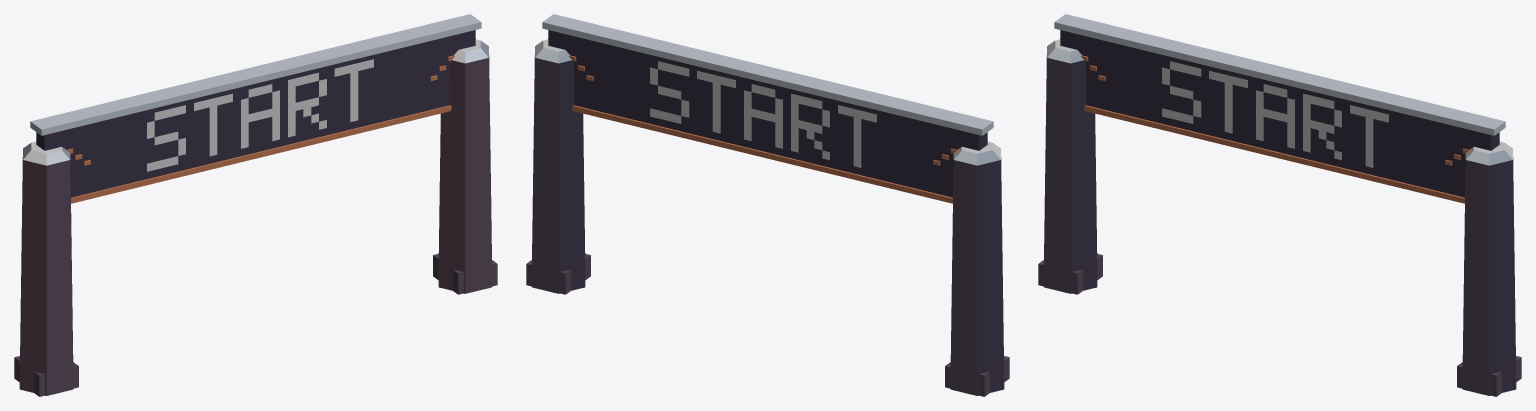
Rendered from start.glb.
3 renders of one model, left to right at view 1: azimuth 30°, elevation 25°; view 2: azimuth 150°, elevation 25°; view 3: azimuth 330°, elevation 25°, orthographic.
Visible parts, largest first — view 1: start; view 2: start; view 3: start.
Boxes of the visible parts, x1,y1,x2,y2 form: start: [14, 14, 497, 396]; start: [526, 14, 1009, 396]; start: [1038, 14, 1521, 396].
Size of the model in its own units: 10.2 by 5.36 by 1.
